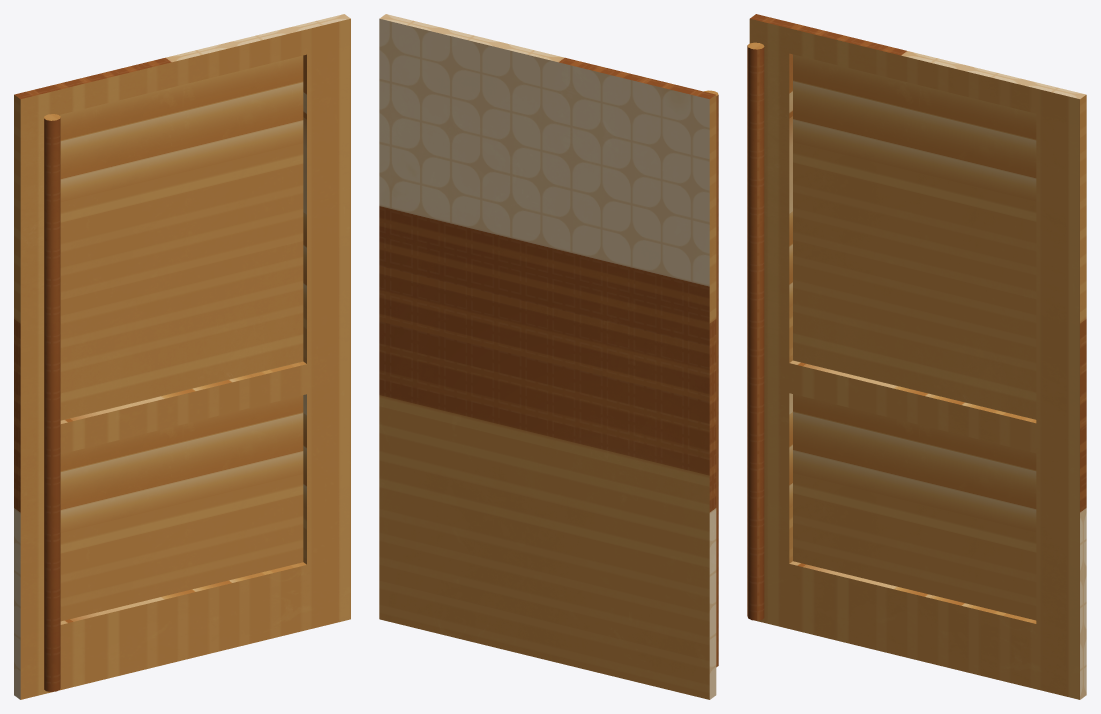
The model's file is door.fbx.
3 renders of one model, left to right at view 1: azimuth 30°, elevation 25°; view 2: azimuth 150°, elevation 25°; view 3: azimuth 330°, elevation 25°, orthographic.
Parts seen in each view (by area): view 1: door; view 2: door; view 3: door.
Part boxes in pixels (x1,y1,x2,y2): door: (14,14,350,699); door: (379,14,718,699); door: (747,14,1086,699).
Bounding box in the file's own units: 131 × 227 × 15.92.
